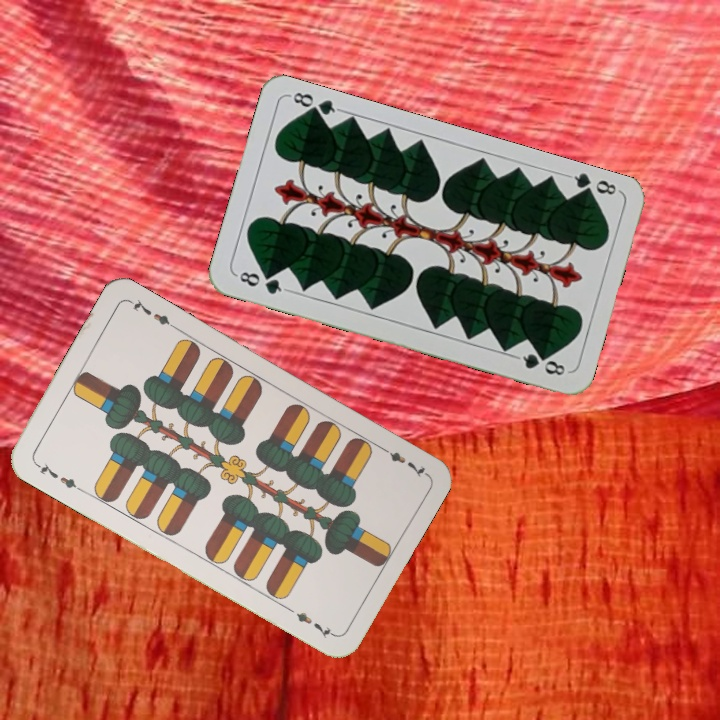E7: (375, 442, 429, 480), (31, 458, 85, 494)
G8: (564, 169, 622, 202), (232, 267, 290, 297)
